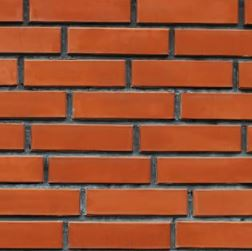brick: (47, 153, 152, 185), (29, 122, 134, 153), (137, 123, 242, 154), (68, 220, 171, 251), (67, 26, 169, 57), (25, 58, 127, 89), (131, 59, 235, 88), (84, 188, 188, 217), (154, 157, 252, 187), (70, 92, 174, 120), (175, 27, 252, 60), (1, 187, 82, 217), (136, 1, 239, 23), (179, 91, 252, 122), (175, 220, 252, 249), (29, 1, 132, 22), (1, 91, 71, 119), (1, 220, 66, 250), (191, 187, 252, 216), (1, 26, 62, 52), (1, 154, 45, 184), (1, 121, 28, 151), (1, 1, 25, 22), (1, 59, 18, 88)
